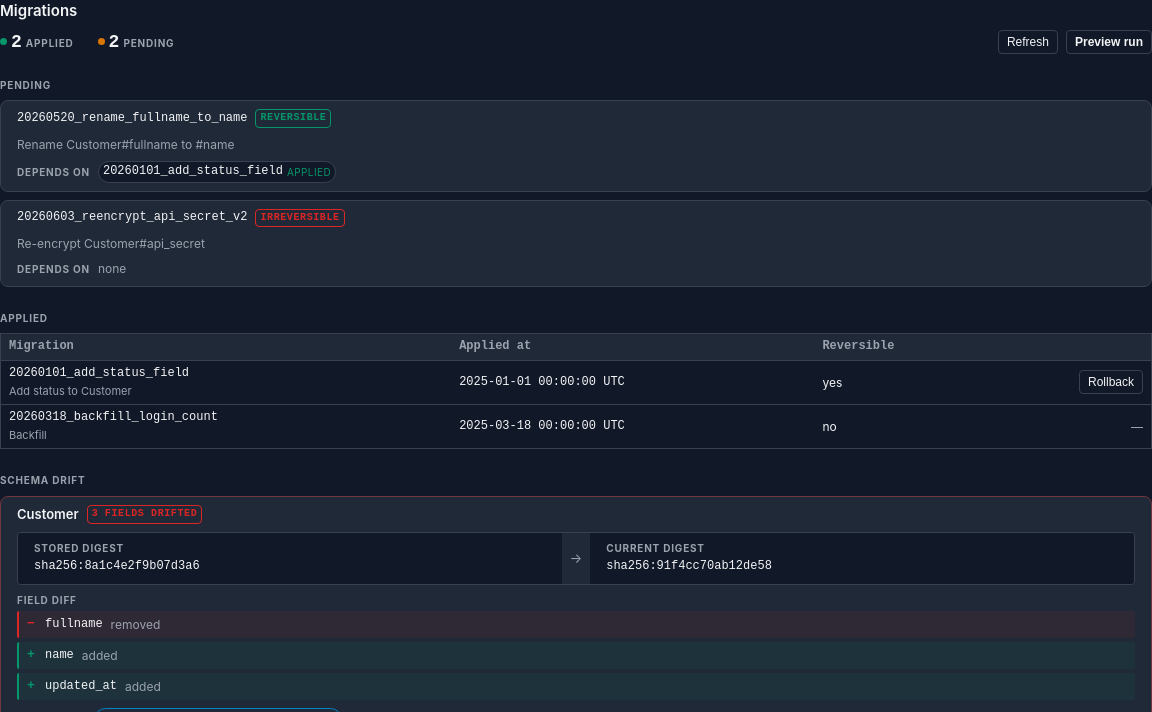
Scenario: irreversible runs require an explicit acknowledgement › an irreversible plan gates Apply behind the ack checkbox
Expected: the table with test id "migrations-applied-table" is shown, [0, 333, 1151, 449]
Click the button with test id "migrations-preview-run" at point(1109, 42), box [1066, 30, 1151, 54]
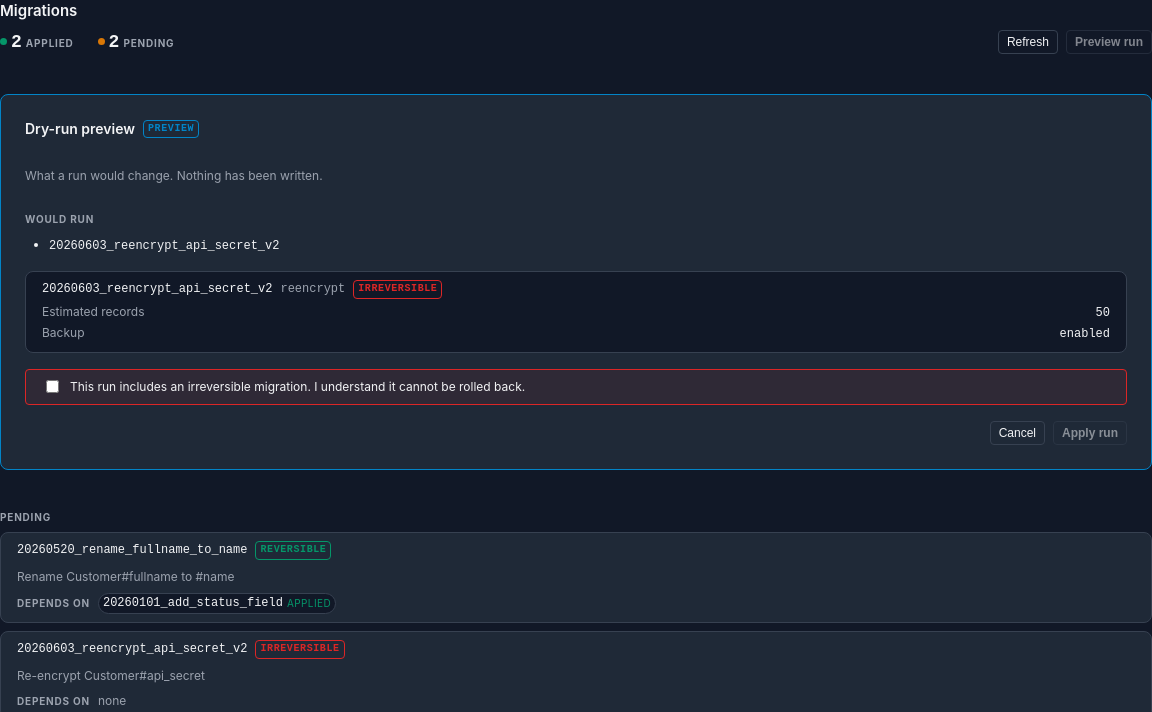
Expected: the element with test id "migrations-dryrun" is shown, [0, 94, 1151, 470]
Expected: the button with test id "migrations-apply" is disabled, [1053, 421, 1127, 445]
Click the checkbox with test id "migrations-ack-checkbox" at point(52, 386), box [46, 380, 59, 393]
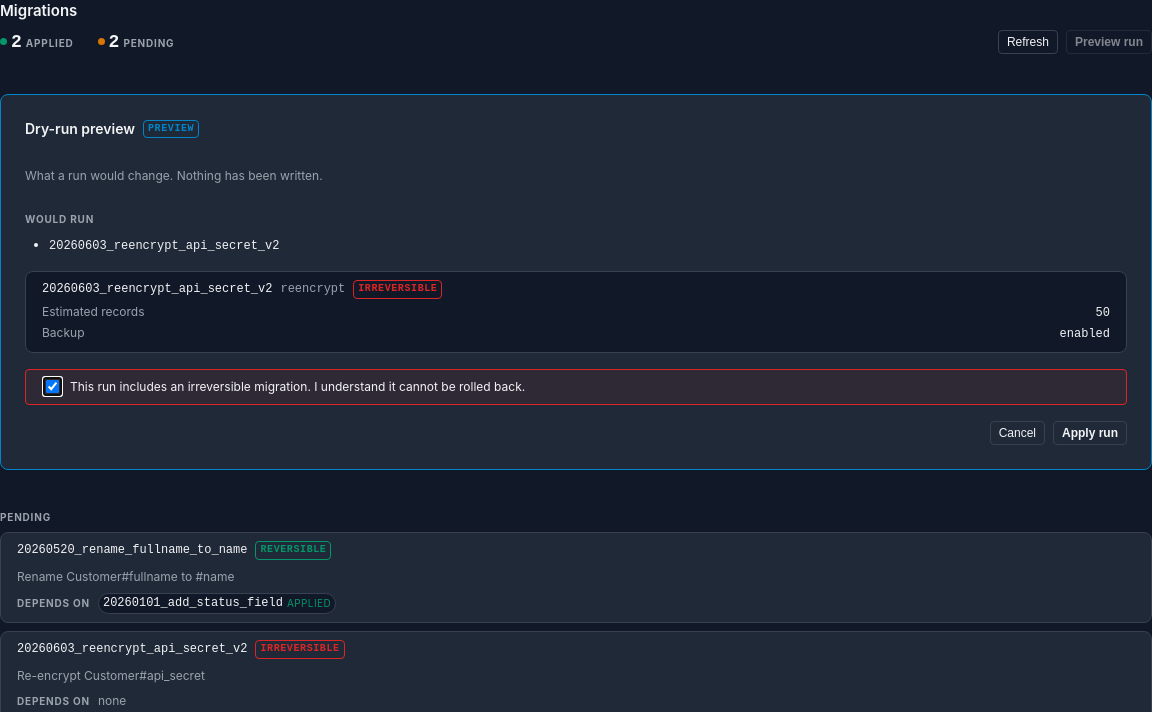
Expected: the button with test id "migrations-apply" is enabled, [1053, 421, 1127, 445]
